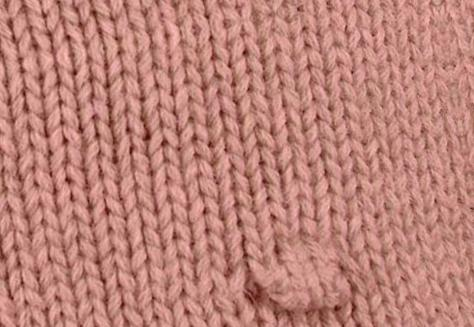knot: (241, 245, 357, 322)
